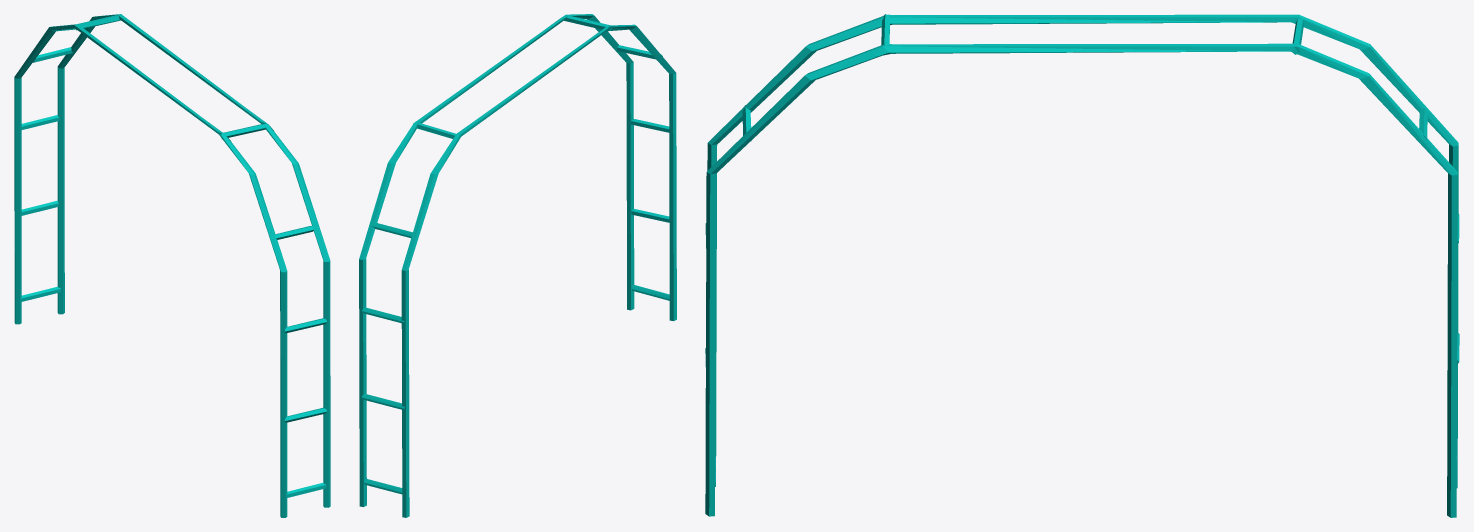
File: flower-frame.glb
The picture shows the model from 3 angles, left to right: view 1: azimuth 30°, elevation 25°; view 2: azimuth 150°, elevation 25°; view 3: azimuth 270°, elevation 25°; orthographic projection. The views are drawn at different scales.
Parts seen in each view (by area): view 1: group2081803224, group713826424; view 2: group2081803224, group713826424; view 3: group713826424, group2081803224.
Part boxes in pixels (bbox=[...]): group2081803224: bbox=[14, 24, 287, 517]; group713826424: bbox=[57, 14, 330, 507]; group2081803224: bbox=[401, 24, 676, 517]; group713826424: bbox=[359, 14, 634, 506]; group713826424: bbox=[705, 43, 1457, 517]; group2081803224: bbox=[707, 14, 1458, 488].
Size of the model in its own units: 0.1643 by 0.9856 by 1.42.
